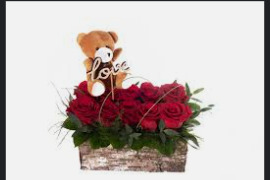RedRose: (159, 102, 193, 132), (114, 97, 143, 131), (65, 95, 96, 124), (160, 78, 190, 104), (94, 98, 118, 127), (141, 101, 158, 134), (136, 80, 160, 99)
